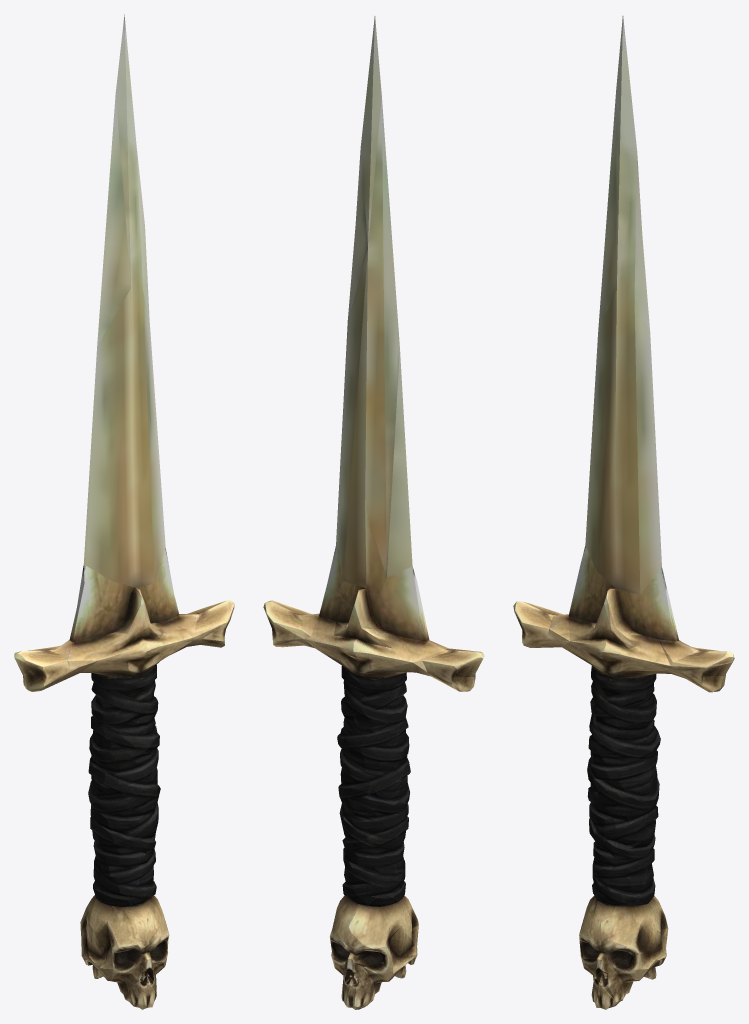
File: stiletto.glb
3 views of the same model, side by side, from view 1: azimuth 30°, elevation 25°; view 2: azimuth 150°, elevation 25°; view 3: azimuth 330°, elevation 25° (orthographic).
Parts seen in each view (by area): view 1: Mesh_0; view 2: Mesh_0; view 3: Mesh_0.
Part boxes in pixels (<box>): Mesh_0: <box>14,14,234,1009</box>; Mesh_0: <box>263,16,484,1009</box>; Mesh_0: <box>513,16,734,1009</box>.
Size of the model in its own units: 0.4461 by 1.9 by 0.1759.
Materials: 1 (1 with a texture image).
